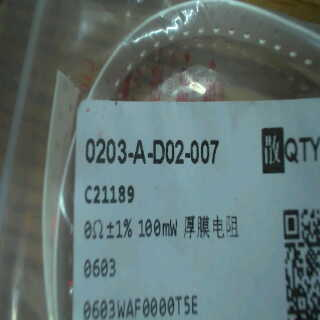0R: (81, 217, 180, 279)
